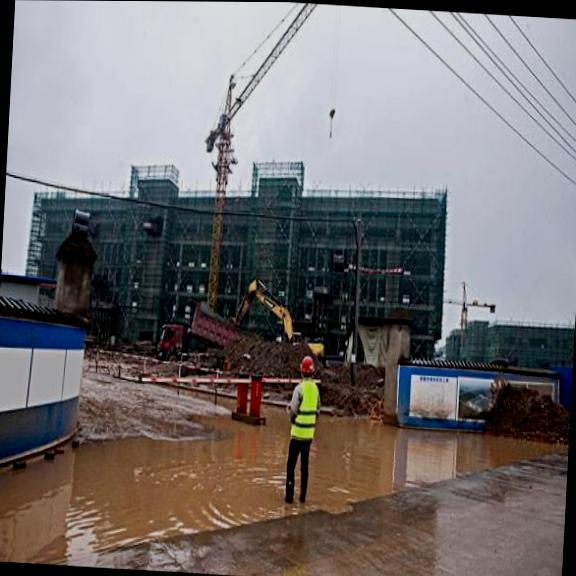safety_vest: (290, 378, 320, 440)
